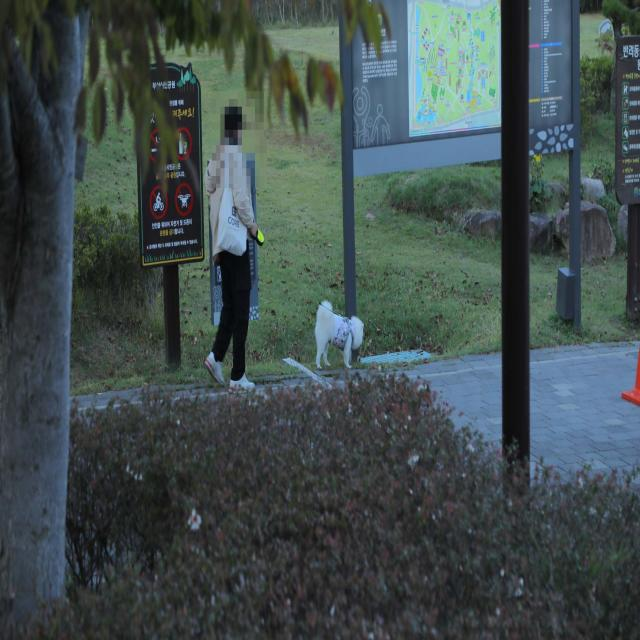Leashed_Dog: (230, 220, 364, 370)
